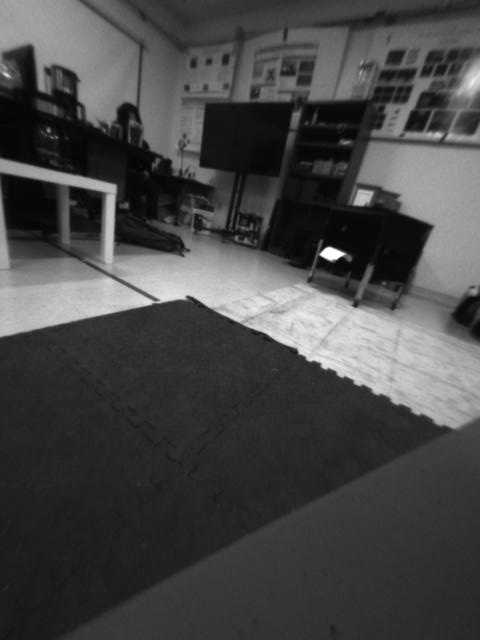coffee_pot: (28, 91, 73, 171)
